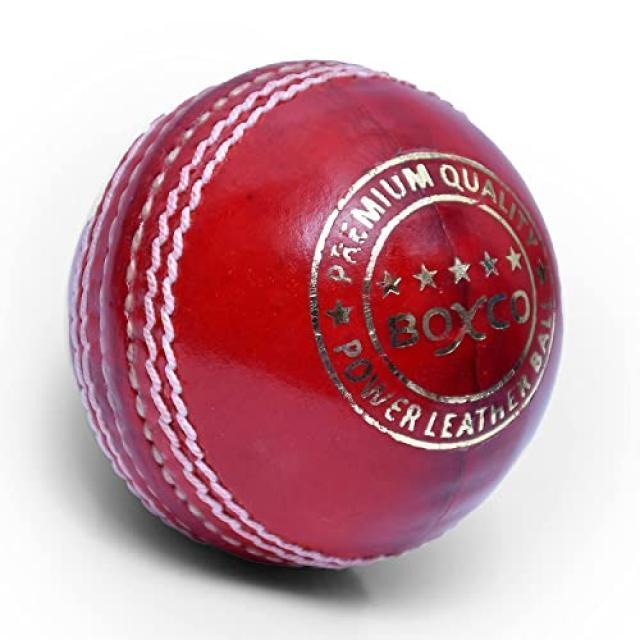cricket ball: (63, 60, 565, 569)
